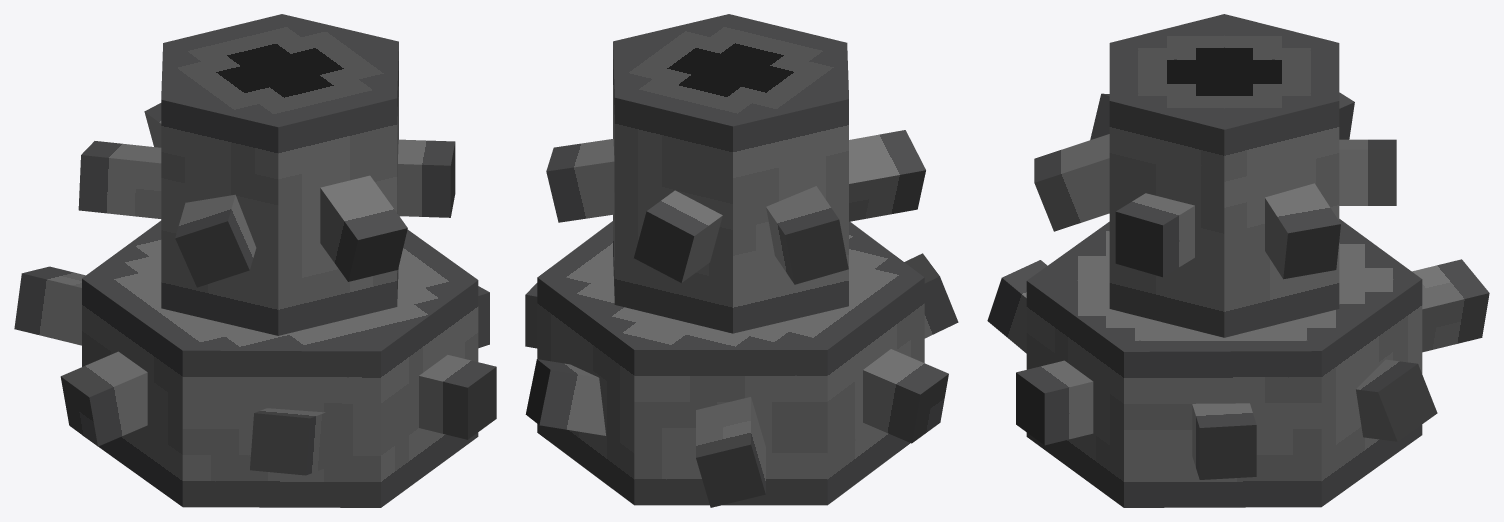
File: shestrnya.obj
3 views of the same model, side by side, from view 1: azimuth 30°, elevation 25°; view 2: azimuth 150°, elevation 25°; view 3: azimuth 270°, elevation 25° (orthographic).
Visible parts, largest first — view 1: cylinder, cube; view 2: cylinder, cube; view 3: cylinder, cube.
Boxes of the visible parts, bbox=[...] form: cylinder: bbox=[82, 14, 478, 507]; cube: bbox=[14, 103, 496, 475]; cylinder: bbox=[537, 14, 924, 505]; cube: bbox=[525, 130, 958, 507]; cylinder: bbox=[1026, 14, 1422, 507]; cube: bbox=[987, 92, 1489, 479].
Bounding box in the file's own units: 1.01 × 0.875 × 1.09.
Materials: 1 (1 with a texture image).
